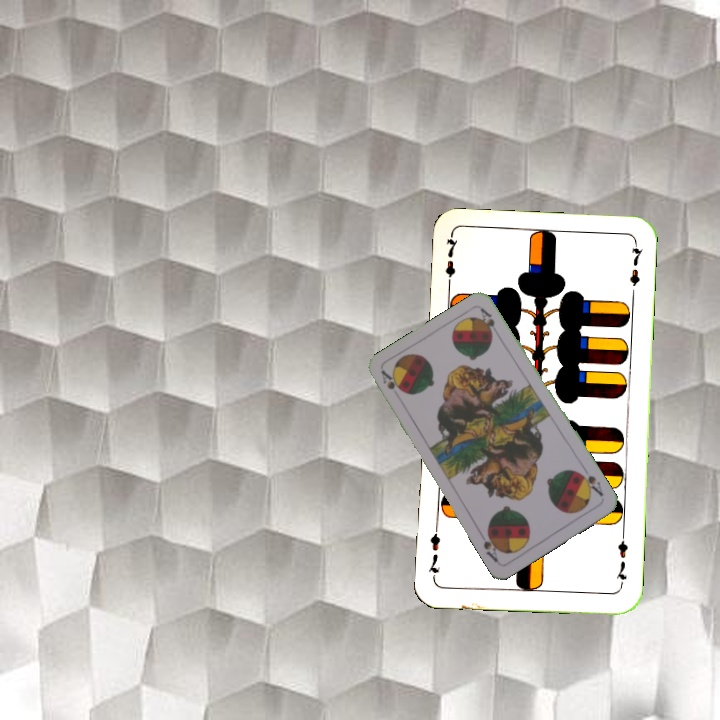E7: (441, 233, 460, 292), (612, 530, 630, 589)
SA: (574, 464, 606, 499), (377, 366, 404, 395)
